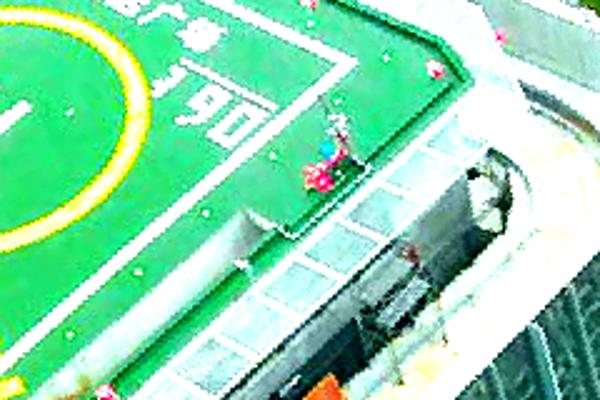Apron: (1, 1, 162, 262)
